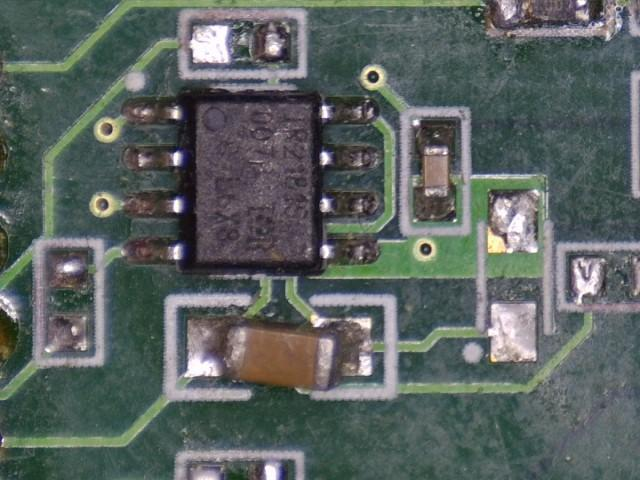pcb_defect: (185, 315, 374, 391)
